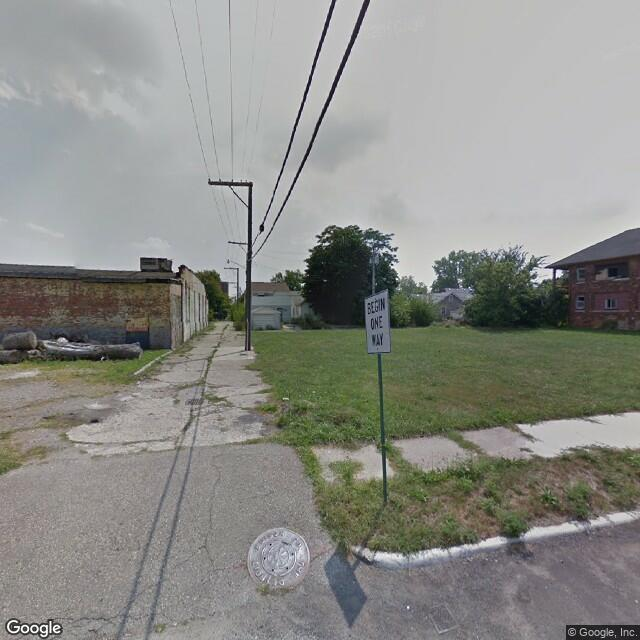litter: (282, 395, 289, 402)
